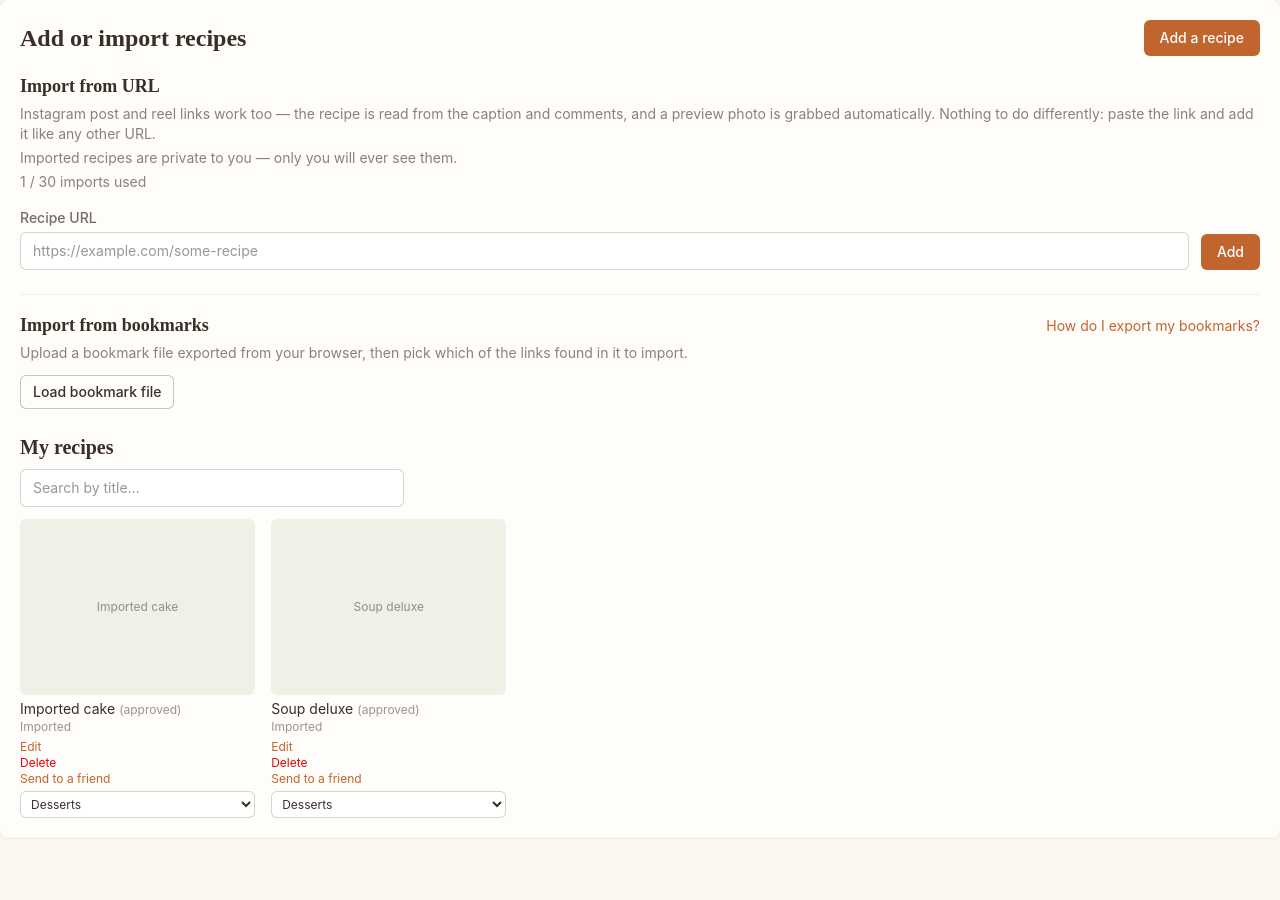
Test: ImportPage › filters the recipe list client-side 1.5s after typing 3+ characters
Check: the text "Soup deluxe" is shown, box [271, 519, 506, 695]
Type "sou" into the search field with placeholder "Search by title…" at (212, 488), box [20, 469, 404, 507]
Wait 1500 ms
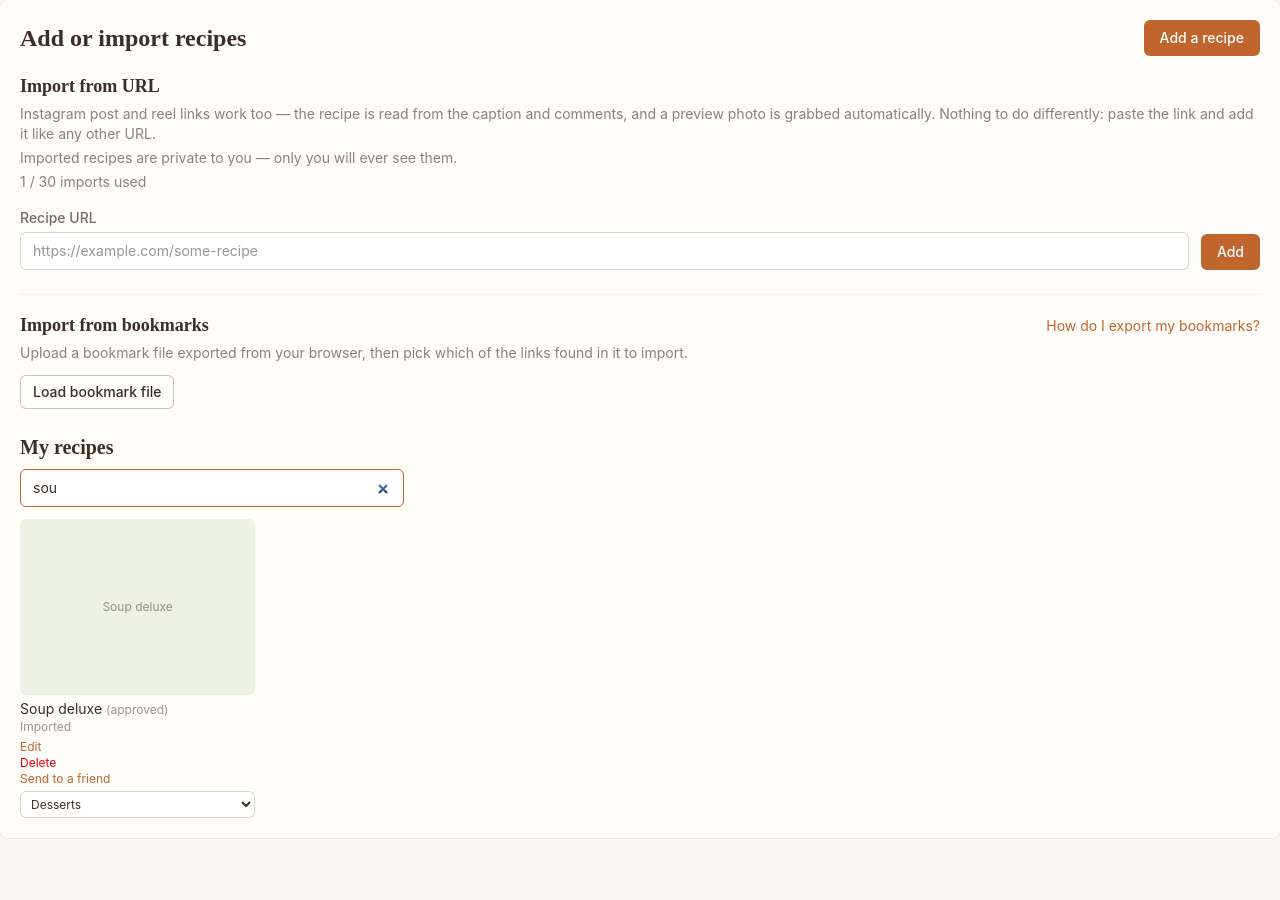
Check: the text "Soup deluxe" is shown, box [20, 519, 255, 695]
Check: the link "Imported cake" is gone
